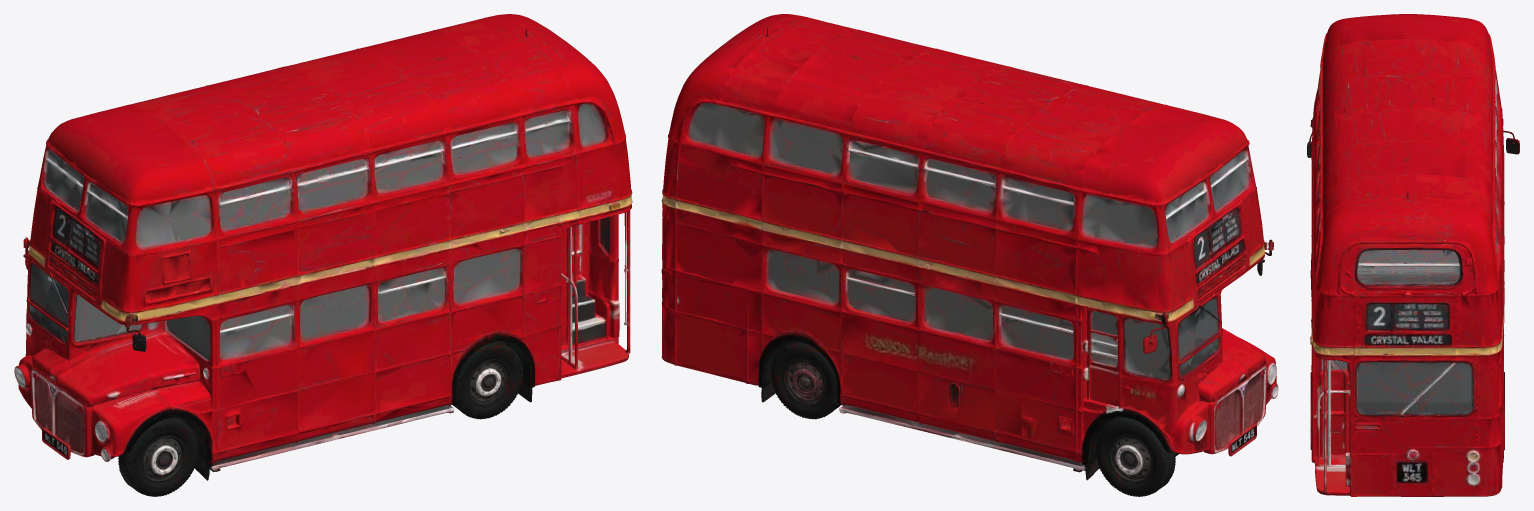
File: bus-SHRINK.glb
3 renders of one model, left to right at view 1: azimuth 30°, elevation 25°; view 2: azimuth 150°, elevation 25°; view 3: azimuth 270°, elevation 25°, orthographic. The views are drawn at different scales.
Visible parts, largest first — view 1: Mesh_0, Wheel_FL, Wheel_RL; view 2: Mesh_0, Wheel_FR, Wheel_RR; view 3: Mesh_0.
Part boxes in pixels (box(x1,y1,x2,y2)): Mesh_0: box(14, 14, 632, 480); Wheel_FL: box(118, 417, 198, 496); Wheel_RL: box(453, 341, 523, 419); Mesh_0: box(661, 14, 1278, 480); Wheel_FR: box(1095, 416, 1175, 496); Wheel_RR: box(770, 340, 840, 419); Mesh_0: box(1307, 14, 1519, 496).
Size of the model in its own units: 1.9 by 1.13 by 0.7205.
Materials: 1 (1 with a texture image).
